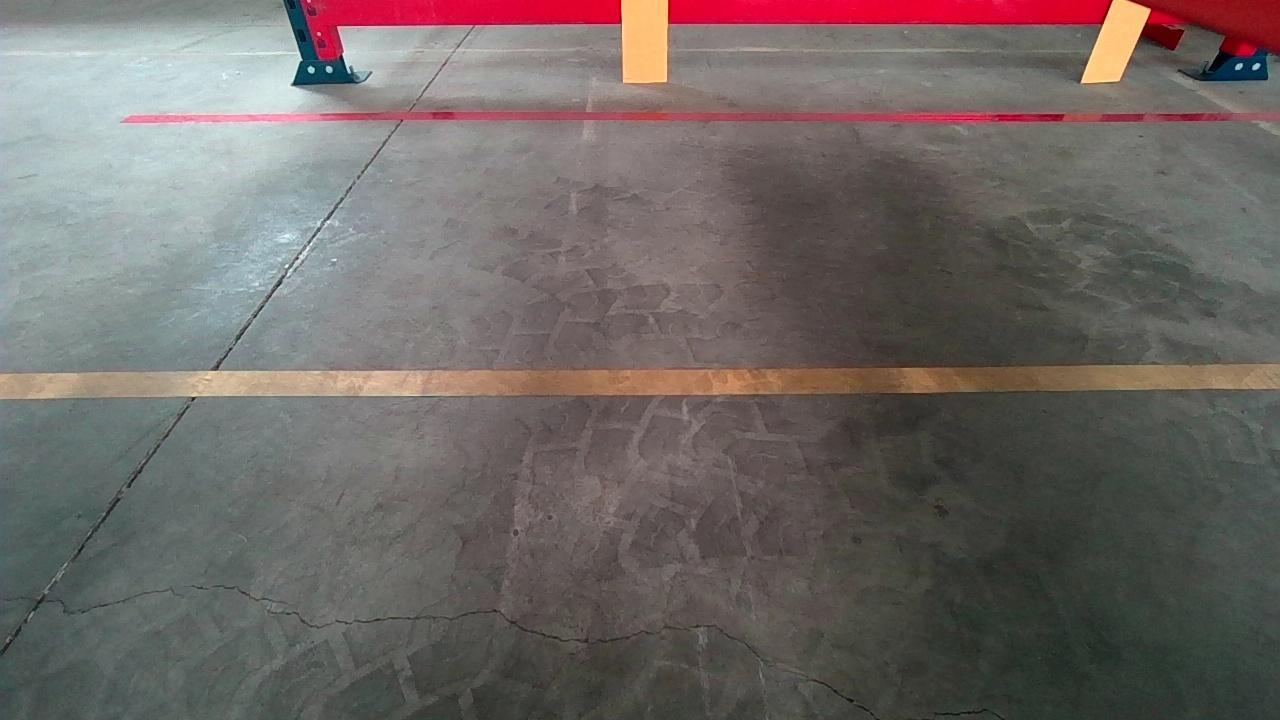h_rack: (321, 0, 1186, 25)
orange_strip: (1083, 0, 1152, 80), (622, 0, 670, 80)
red_line: (121, 111, 1280, 124)
yellow_line: (0, 364, 1280, 400)
